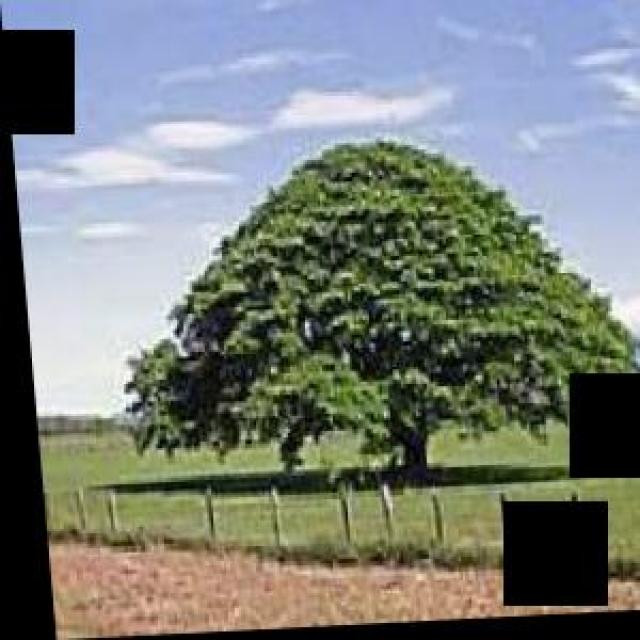tree: (97, 127, 639, 502)
